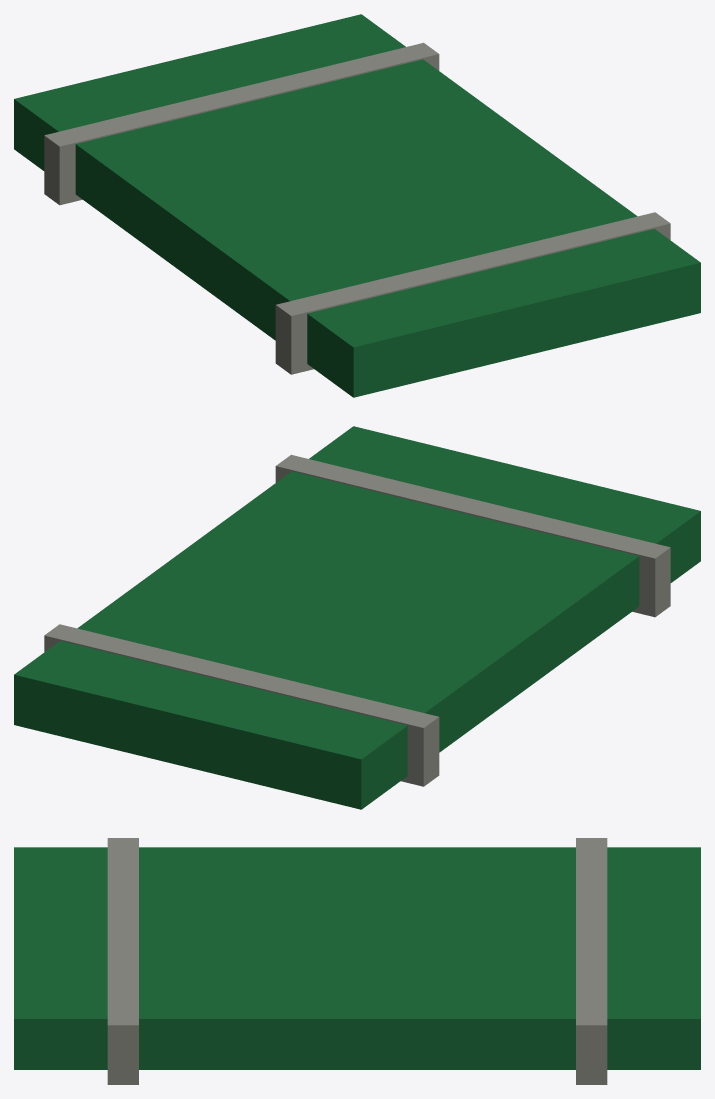
Rendered from refuge100_battery.obj.
3 renders of one model, top to bottom at view 1: azimuth 30°, elevation 25°; view 2: azimuth 150°, elevation 25°; view 3: azimuth 270°, elevation 25°, orthographic.
Parts seen in each view (by area): view 1: refuge100_battery; view 2: refuge100_battery; view 3: refuge100_battery.
Part boxes in pixels (bbox=[...]): refuge100_battery: bbox=[14, 14, 700, 397]; refuge100_battery: bbox=[14, 426, 700, 809]; refuge100_battery: bbox=[14, 838, 700, 1084].
Size of the model in its own units: 1.42 by 0.21 by 2.2.
